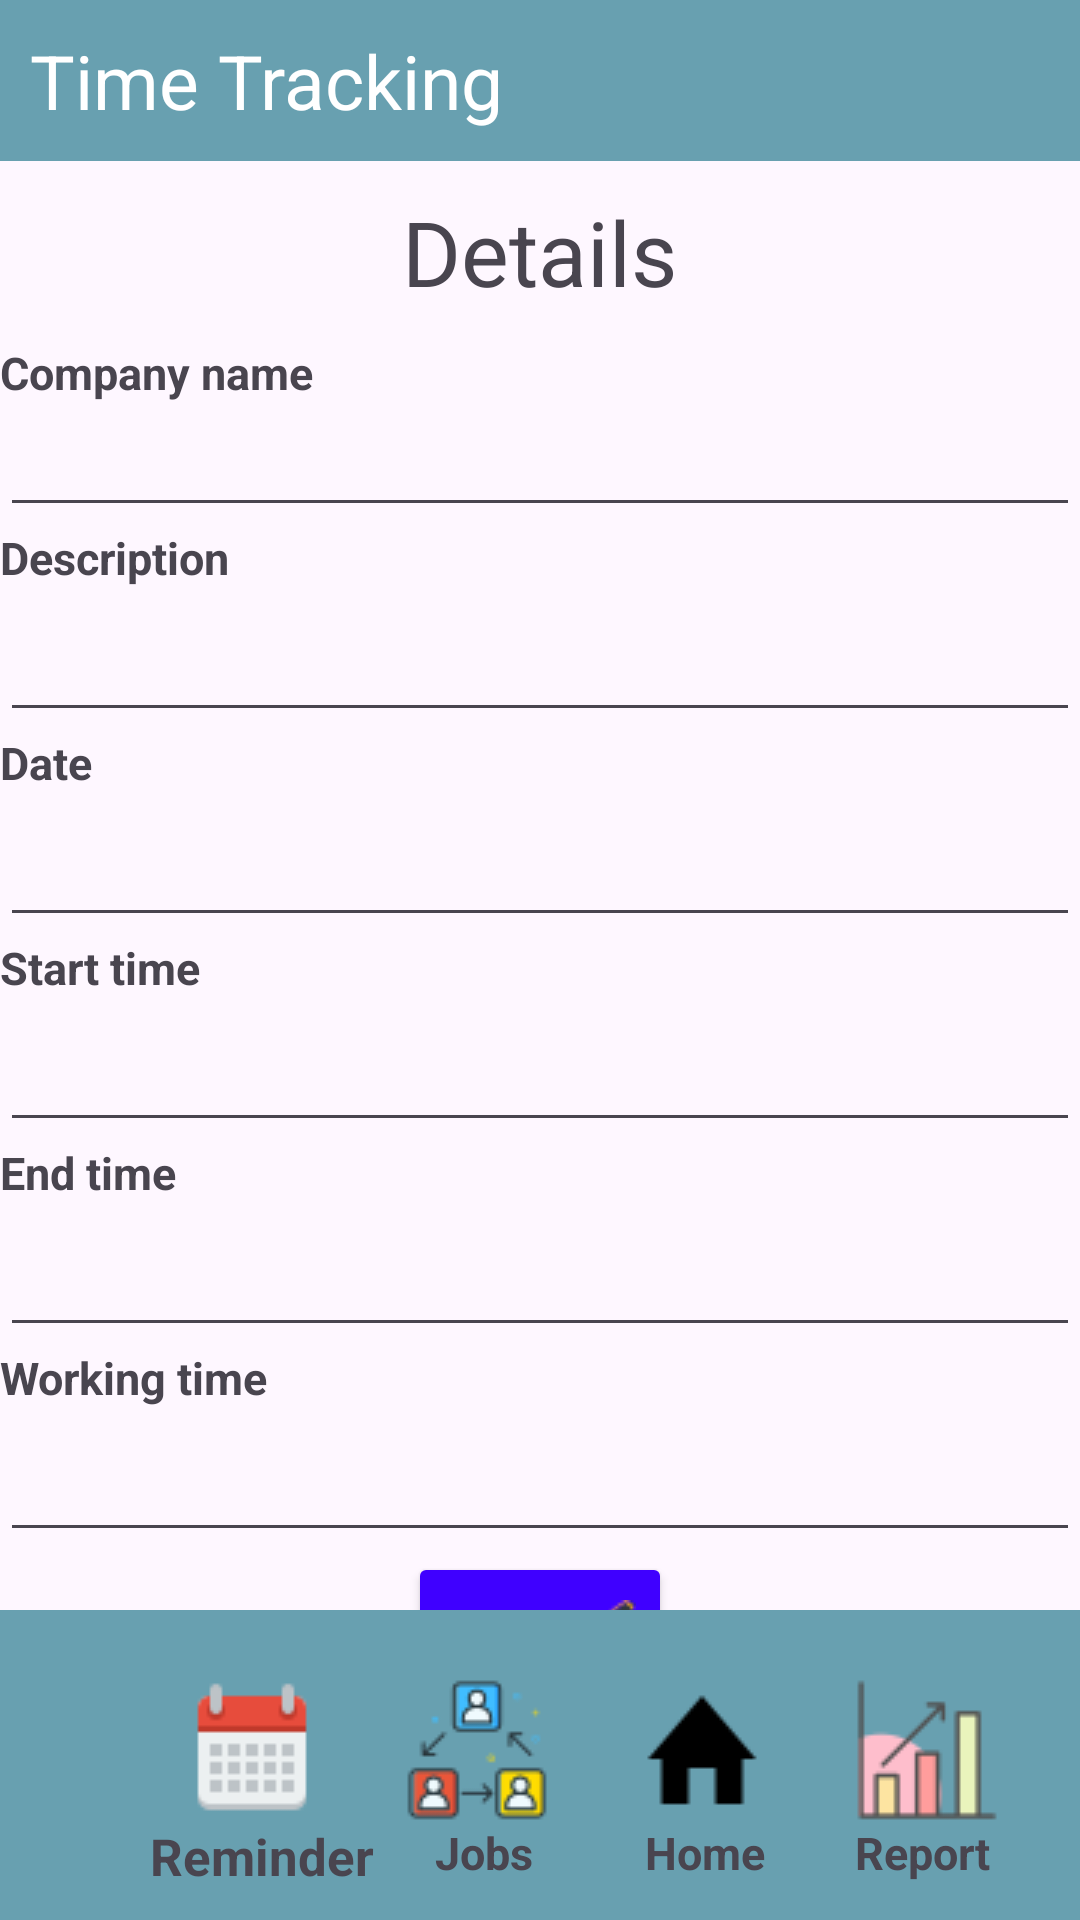

Icons on this 1080w x 1920h Android screen, each with the point to tap as point (x, y):
analytics: point (927, 1750)
calendar: point (252, 1747)
